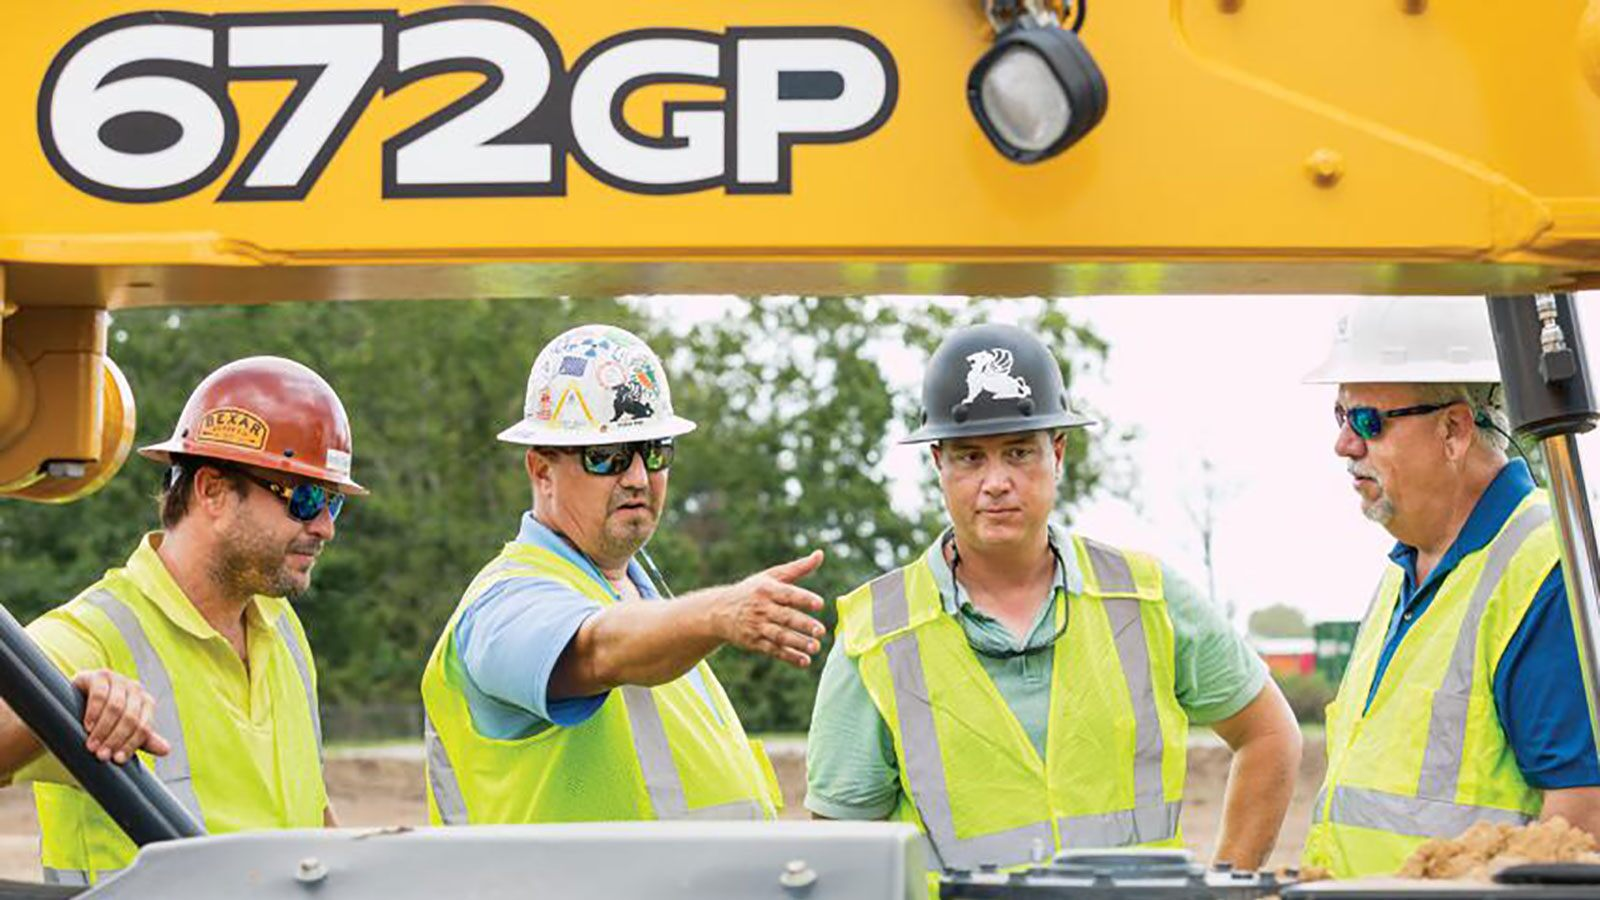Helmet: (136, 348, 392, 503), (489, 316, 707, 456), (892, 318, 1096, 448), (1312, 295, 1504, 400)
